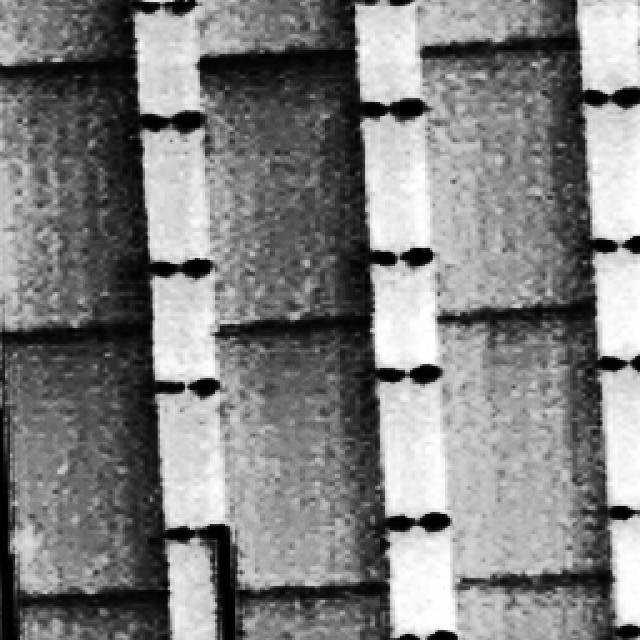PV-modules: (421, 38, 601, 322), (439, 308, 614, 587), (196, 56, 374, 330), (213, 320, 390, 595), (0, 331, 169, 601), (0, 62, 154, 340), (0, 0, 140, 71), (453, 581, 619, 640), (195, 3, 358, 63), (414, 0, 587, 56), (234, 582, 397, 640), (11, 591, 175, 640)
